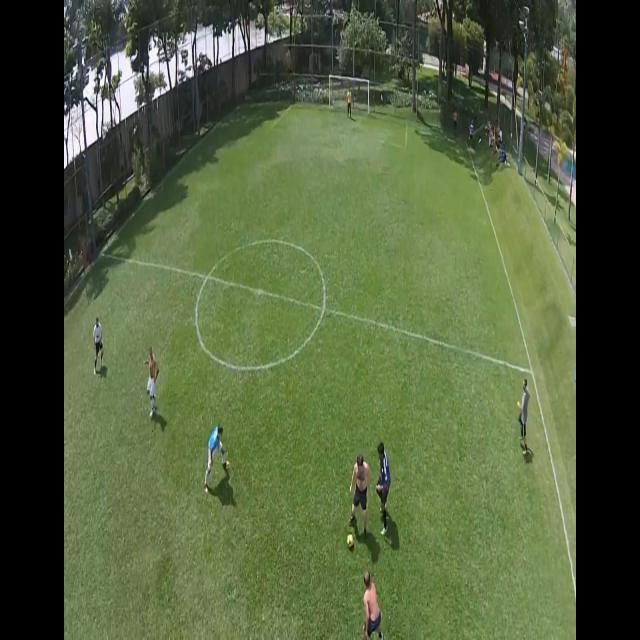humans: (350, 446, 374, 538), (376, 433, 395, 539), (204, 420, 230, 494), (362, 566, 384, 640), (143, 338, 160, 422), (516, 375, 533, 454), (89, 310, 105, 378)
